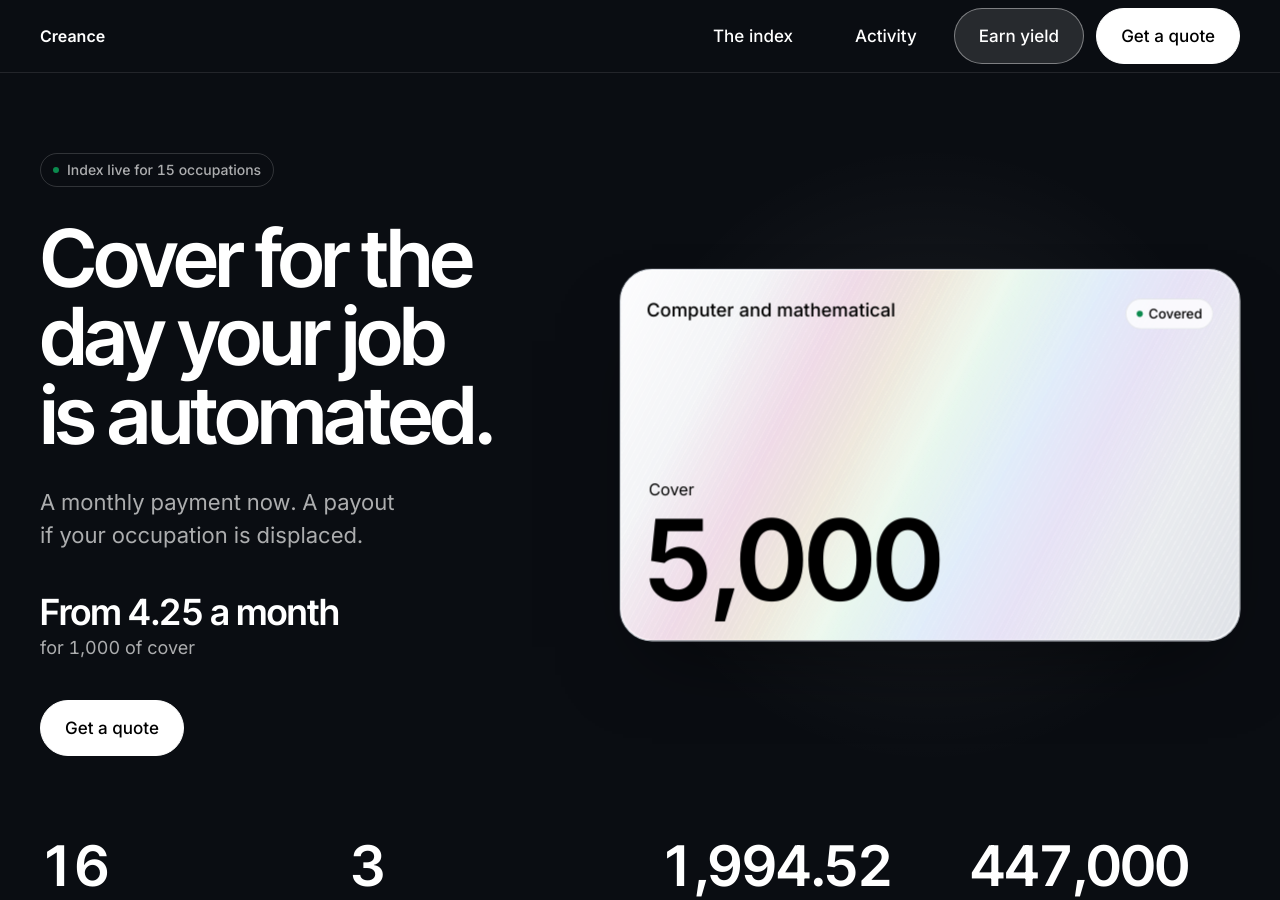
it: the occupation step keeps the deck › asks the deck question and labels the deck field
Click the button "Get a quote" next to "Earn yield". click: {"x": 1168, "y": 36}
box: [1096, 8, 1240, 64]
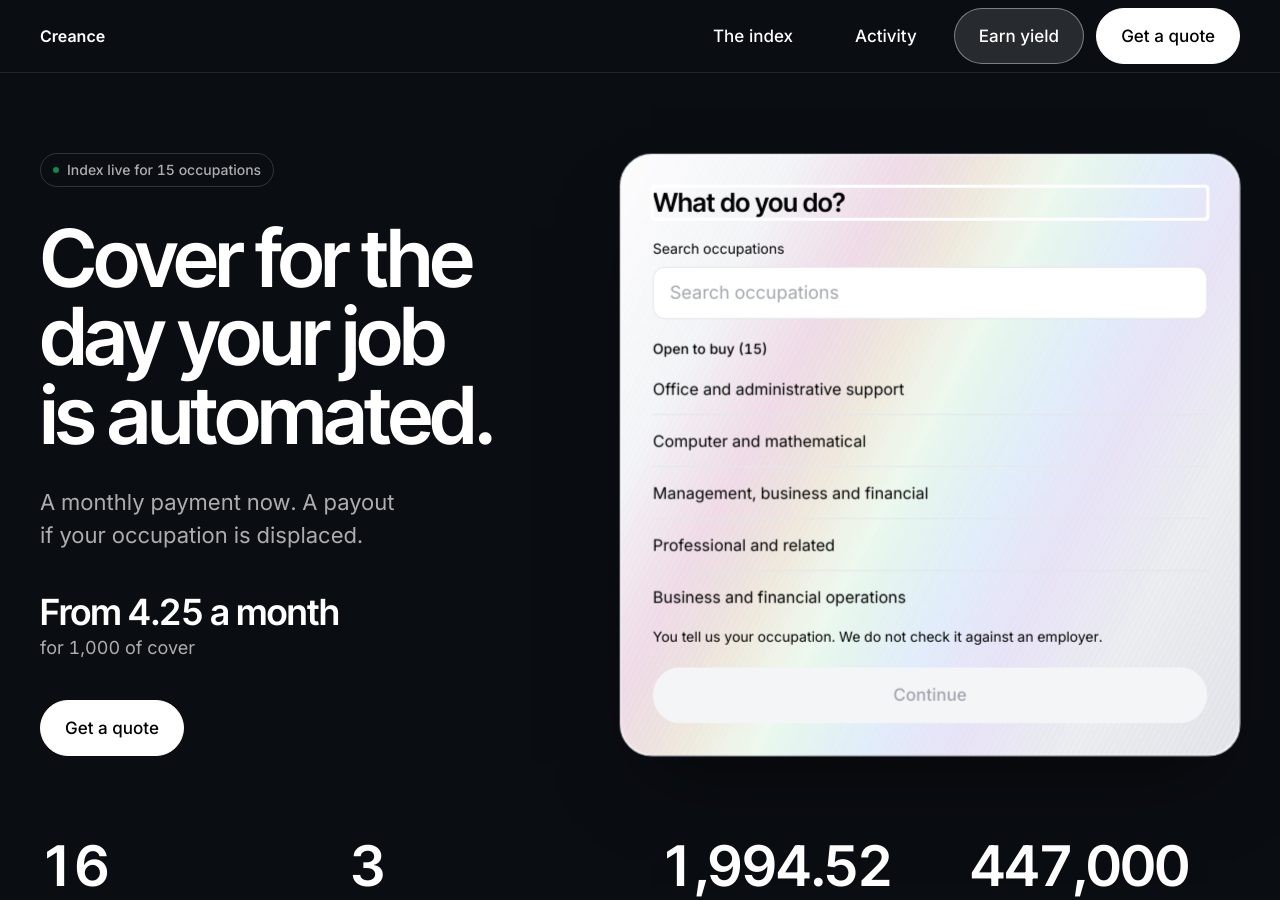
Now the element that starts with "What do you do?" is shown, box [653, 186, 845, 217]
Now the search field labelled "Search occupations" is shown, box [653, 266, 1207, 318]
